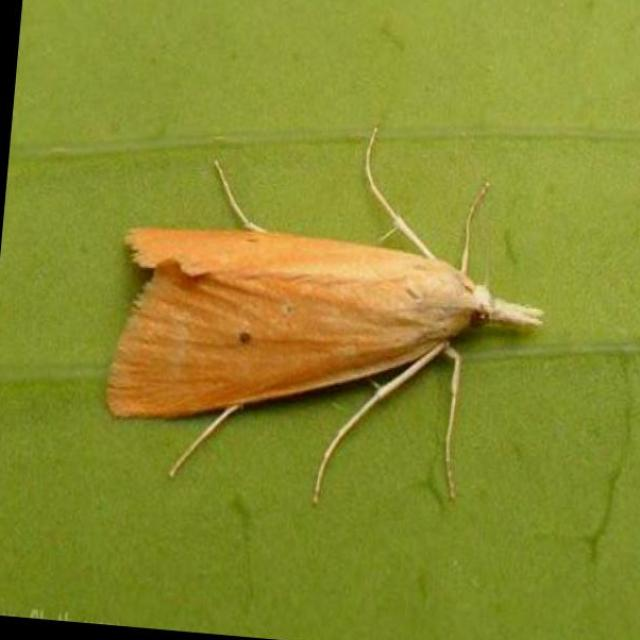stem borer: (107, 130, 542, 501)
